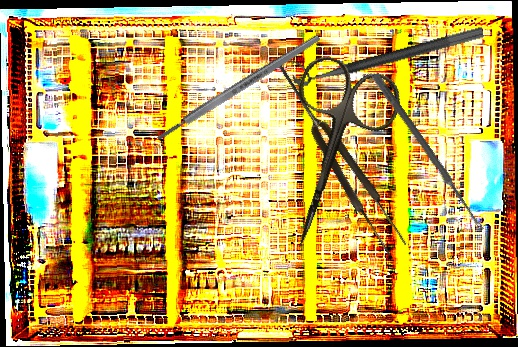Fixation Ring: (288, 10, 485, 89)
Iris Scissors: (249, 50, 408, 264)
Scalpel Handle: (155, 32, 322, 144)
Surgical Spoon: (370, 72, 487, 233)
Tissue Forceps: (267, 53, 409, 258)
